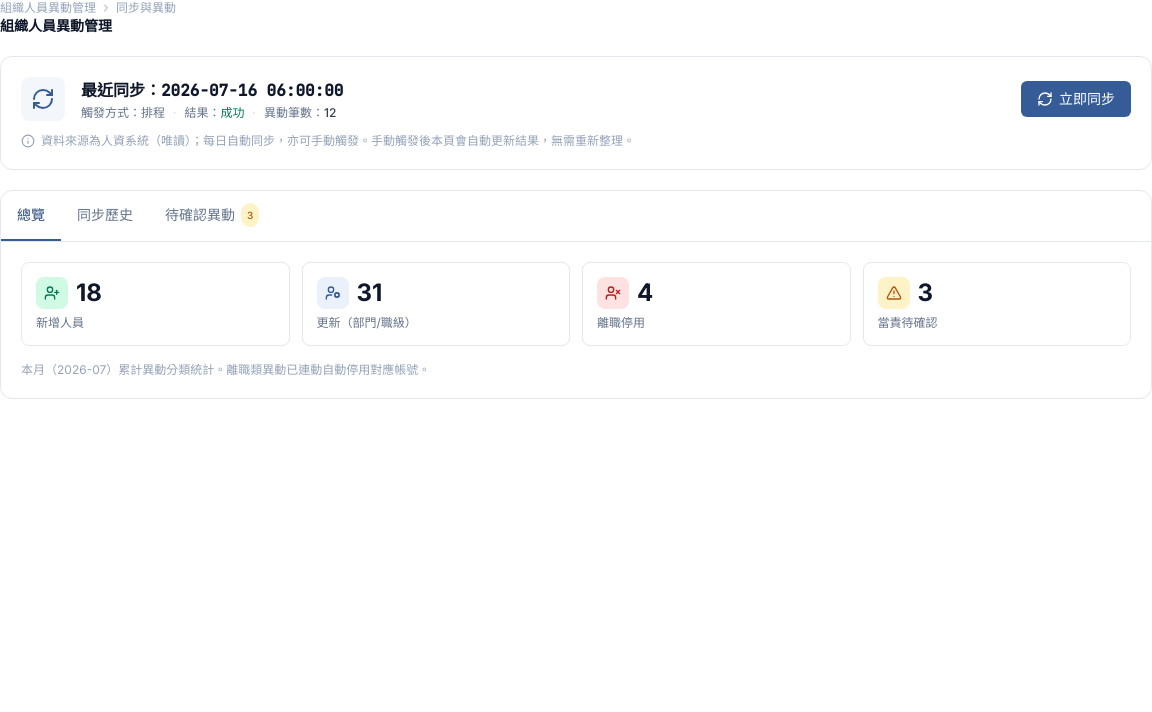
Test case: OrgSyncPage — 待確認異動清單（F006） › TS-F006-065 DOCUMENT_FIELD 卡片：文件編號/名稱/待確認 pill/受影響欄位/before→after
This screenshot has width=1152, height=712.
Step 1. Click the button "待確認異動 3" → (212,216), box [149,191,275,241]
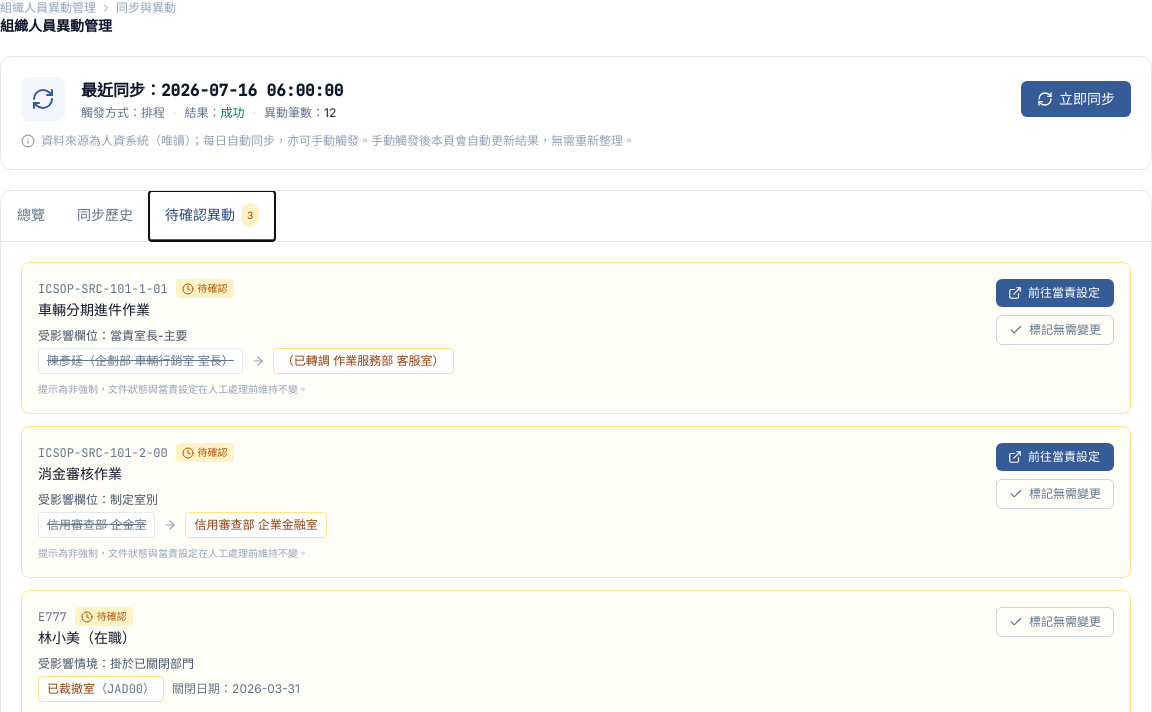
Result: the text "ICSOP-SRC-101-1-01" is shown at [38,280,168,296]
Result: the text "車輛分期進件作業" is shown at [38,301,150,318]
Result: the text "當責室長-主要" is shown at [110,328,188,343]
